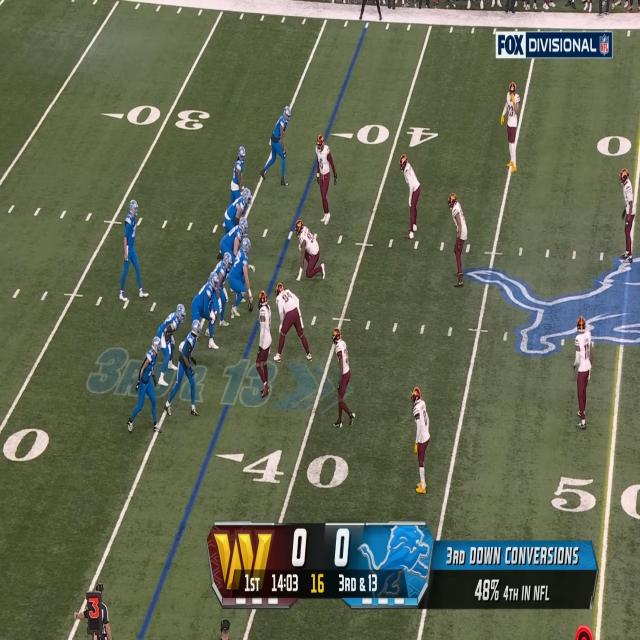Ball: (249, 301, 253, 312)
